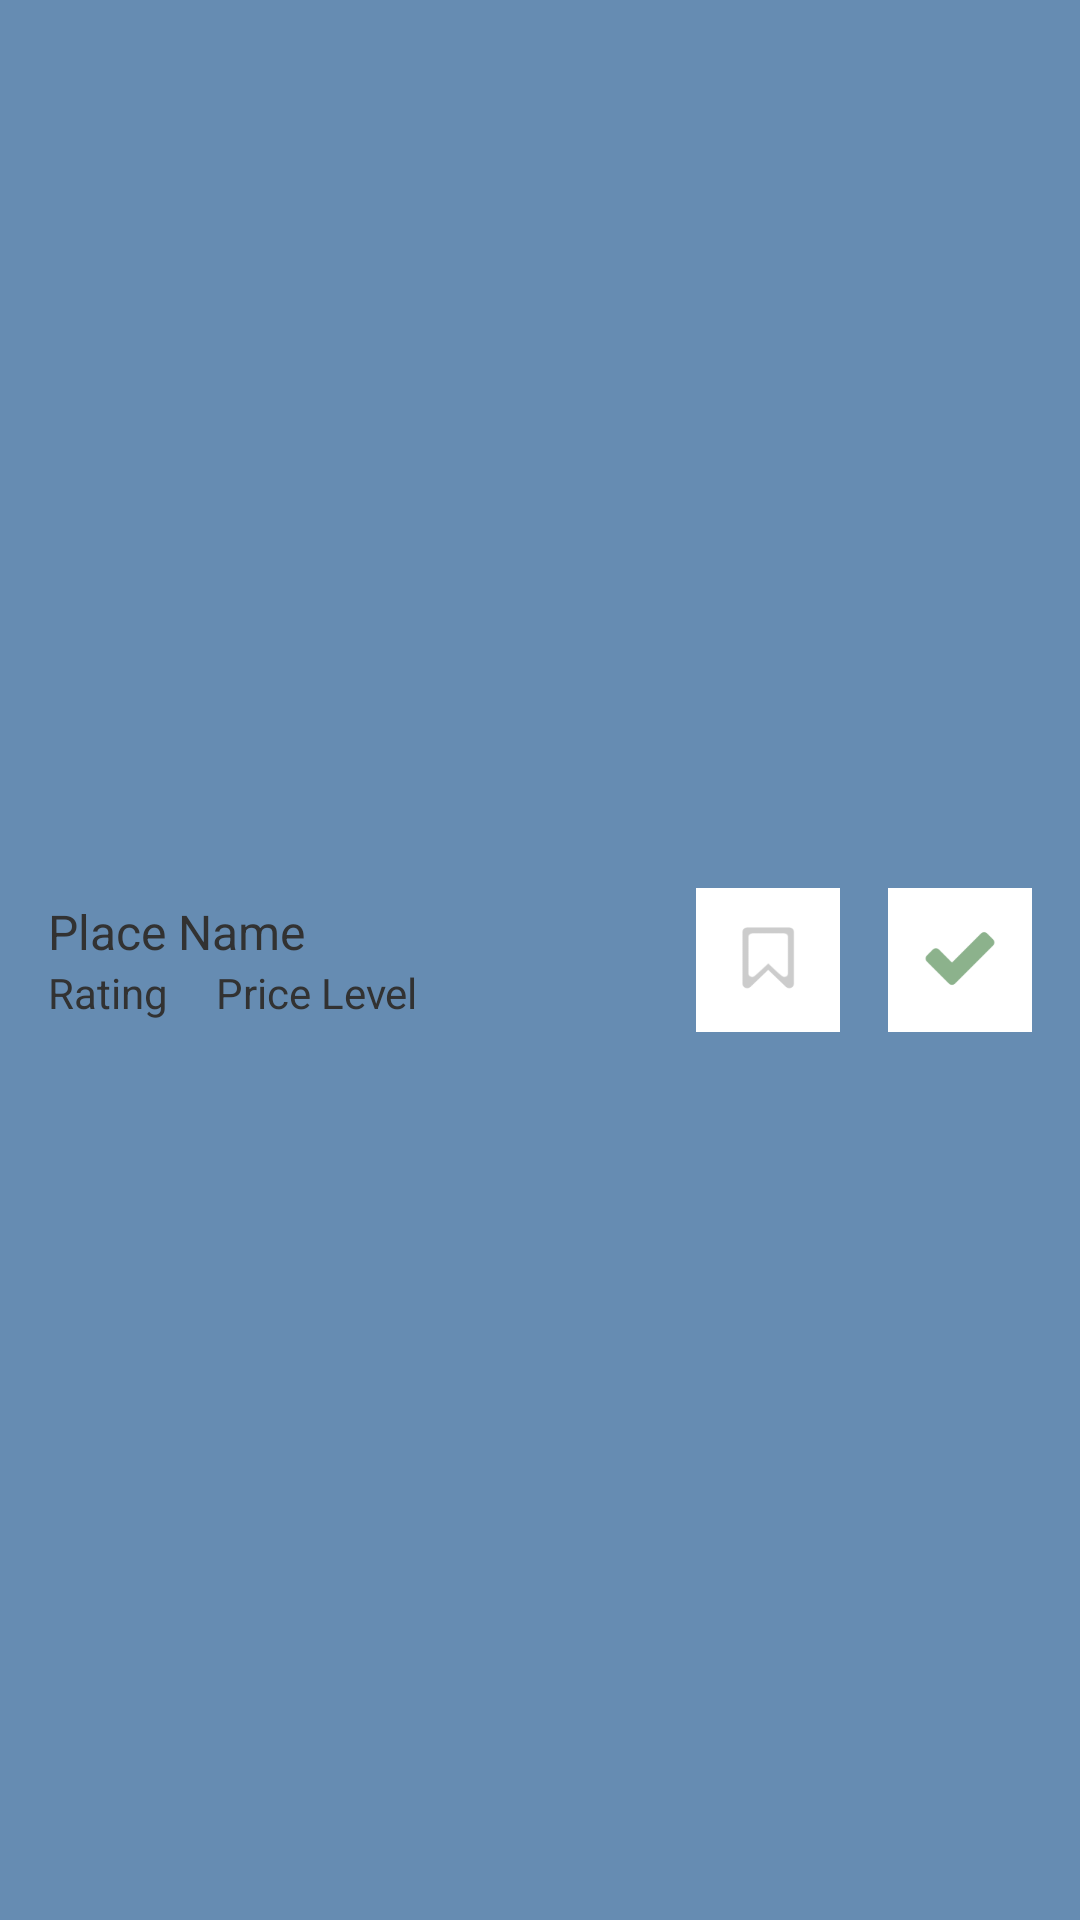

Where to tap for icons on this 1080px x 1920px app screen, as (x=x, y=y):
been toggle: (x=960, y=960)
save toggle: (x=768, y=960)
